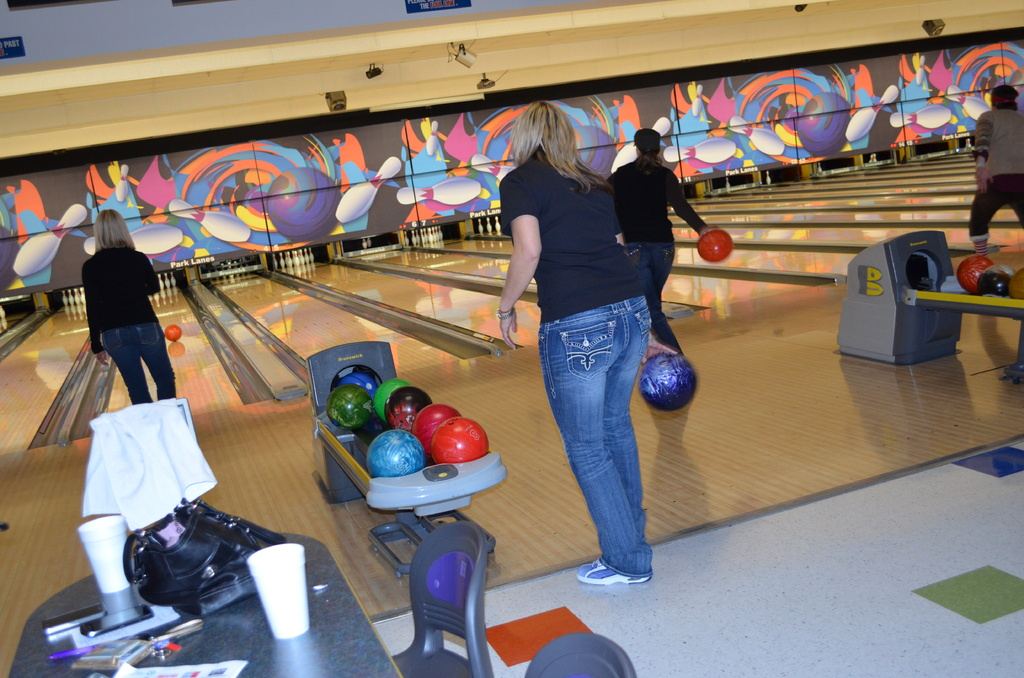Ball: (330, 366, 486, 478), (268, 165, 340, 238), (797, 92, 852, 158), (641, 356, 696, 408), (583, 125, 616, 179), (954, 256, 993, 295), (697, 227, 732, 263), (974, 268, 1012, 298), (1007, 266, 1023, 300), (167, 325, 180, 342)
